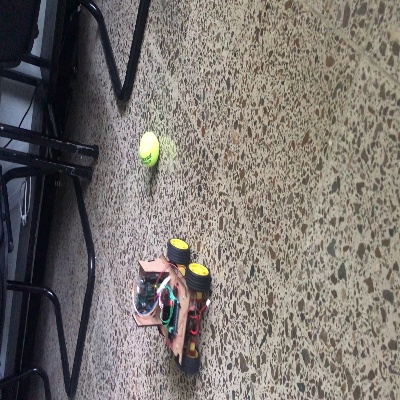Ball: (136, 132, 160, 167)
Robot: (132, 238, 212, 373)
